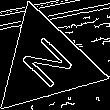N_SE: (13, 31, 79, 95)
